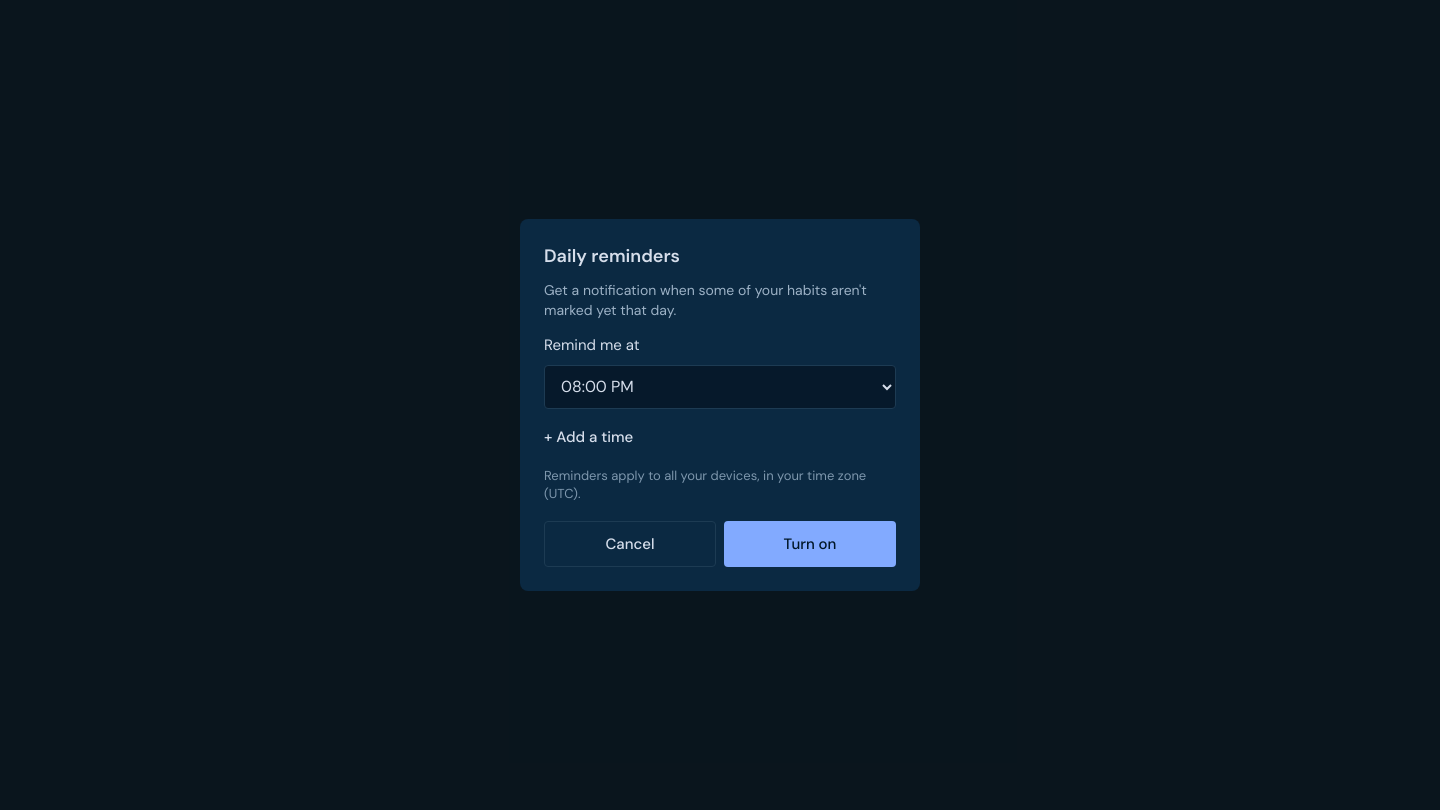
Test: ReminderDialog - daily reminder on this device › should turn reminders on at the chosen hour
The width and height of the screenshot is (1440, 810).
Select "07:00 AM" in the dropdown named "Reminder 1". click: [720, 387]
box: [544, 365, 896, 409]
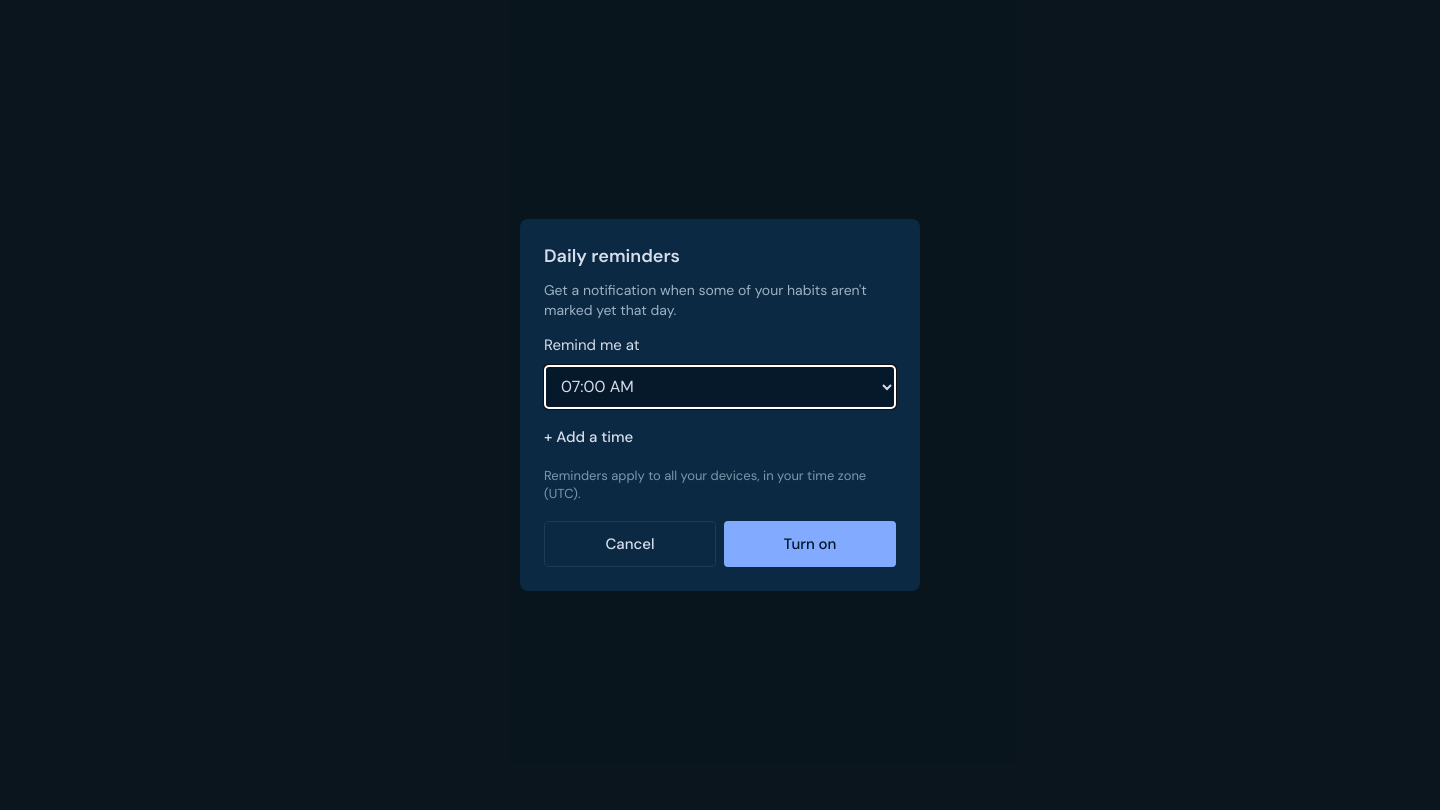
Click the button "Turn on". click: [810, 544]
box: [724, 521, 896, 567]
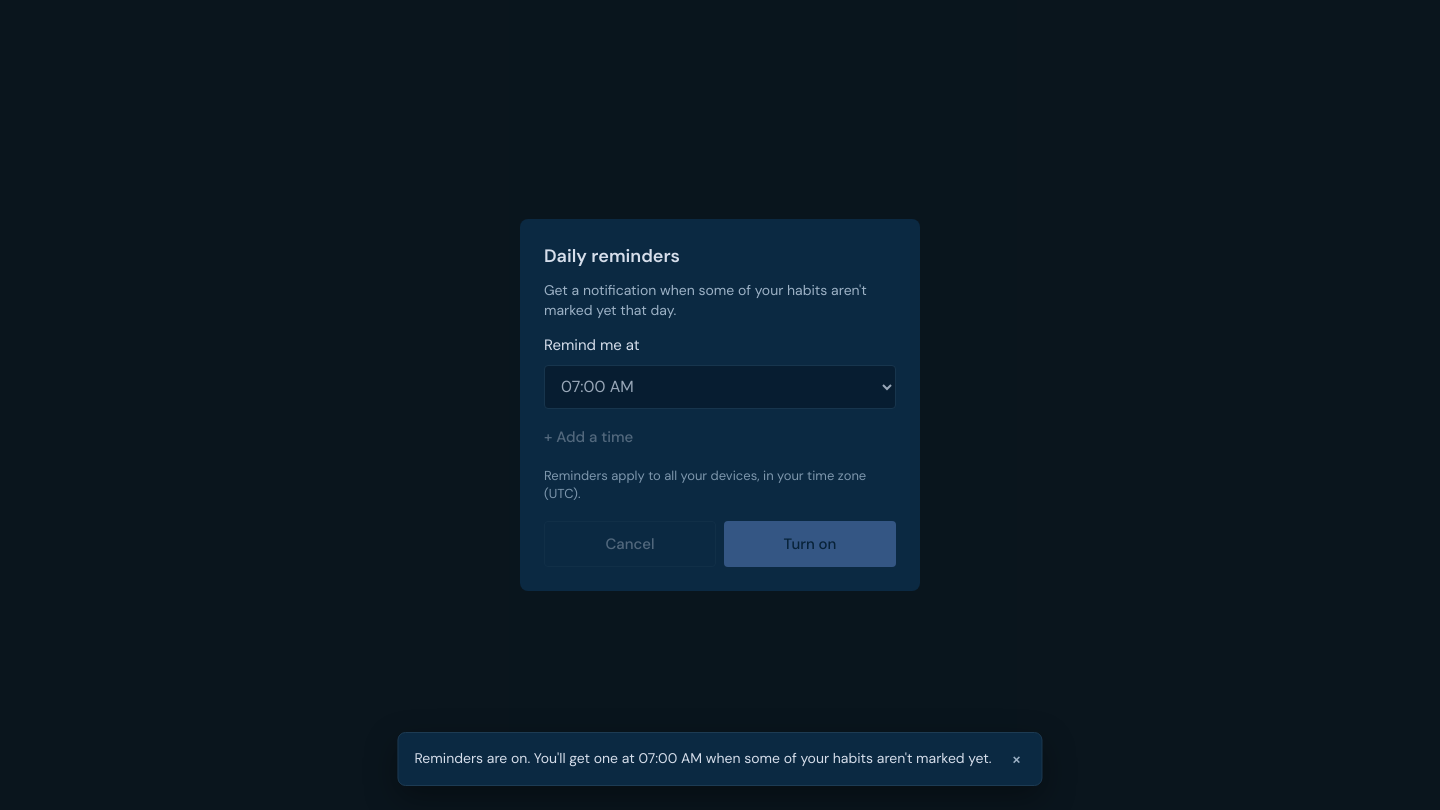
expect the message shows "Reminders are on.": met, box [414, 749, 992, 767]
